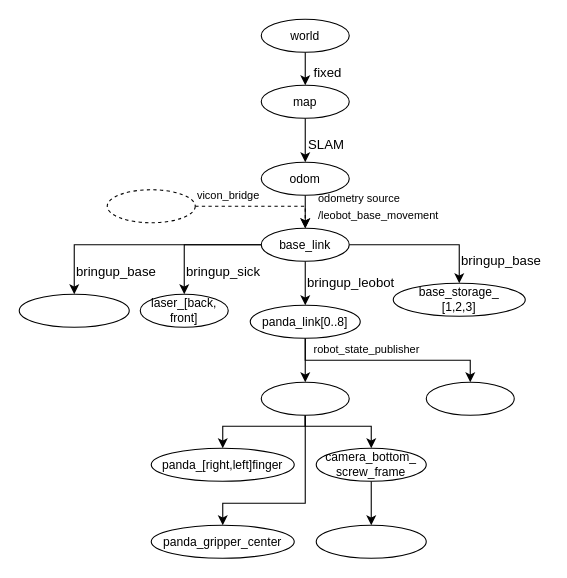
This 567x578 diagram has some shape labels left out. Here are the shapes that lost their labels. From the top down, the centre of each, then its label:
the point at 150,206: Vicon
the point at 73,310: [base, panda]_ footprint
the point at 304,398: panda_hand
the point at 469,398: panda_EE
the point at 370,541: camera_front_link
